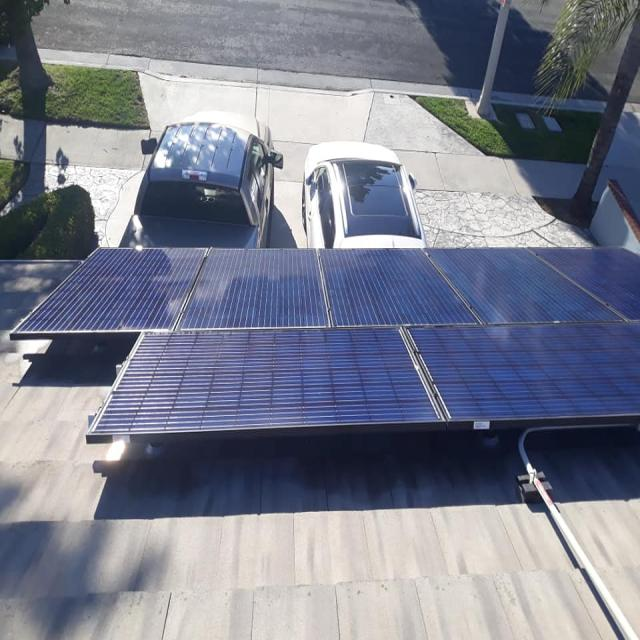clean-solar-panel: (88, 324, 640, 442), (11, 248, 640, 338)
